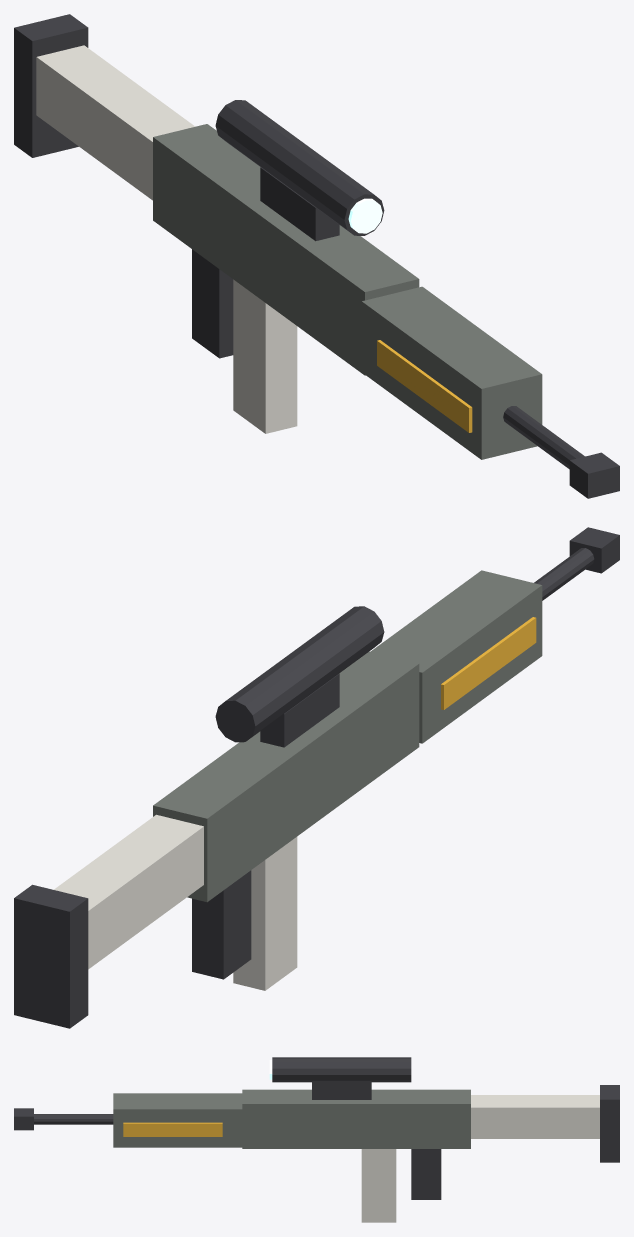
File: weapon_F1_BattleRifle.glb
The picture shows the model from 3 angles, top to bottom: view 1: azimuth 30°, elevation 25°; view 2: azimuth 150°, elevation 25°; view 3: azimuth 270°, elevation 25°; orthographic projection. The views are drawn at different scales.
Parts seen in each view (by area): view 1: Body, Mag; view 2: Body, Mag; view 3: Body, Mag.
Part boxes in pixels (x1,y1,x2,y2): Body: [14, 14, 619, 498]; Mag: [233, 279, 297, 433]; Body: [14, 527, 619, 1028]; Mag: [233, 837, 297, 990]; Body: [14, 1057, 619, 1199]; Mag: [361, 1149, 396, 1222].
Size of the model in its own units: 0.084 by 0.355 by 1.22.
